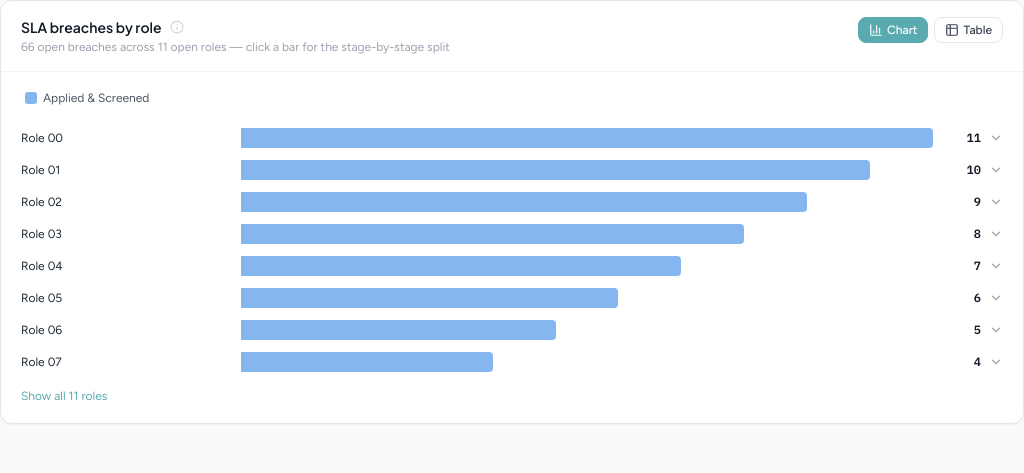
Test: SlaBreachesByRole › has a table view with every role (even beyond the top eight) and the totals
expect the link "Role 00" is shown: met, box [21,131,63,145]
Click the button "Table" at point(969, 30), box [934,17,1003,43]
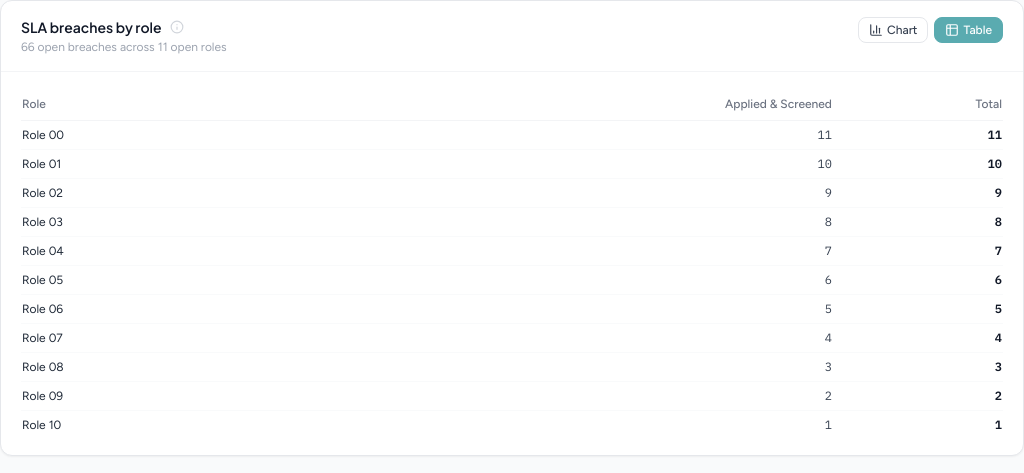
expect the column heading "Applied & Screened" is shown: met, box [274,88,840,120]
expect the number of rows is 12: met
Click the button "Chart" at point(893, 30), box [858,17,928,43]
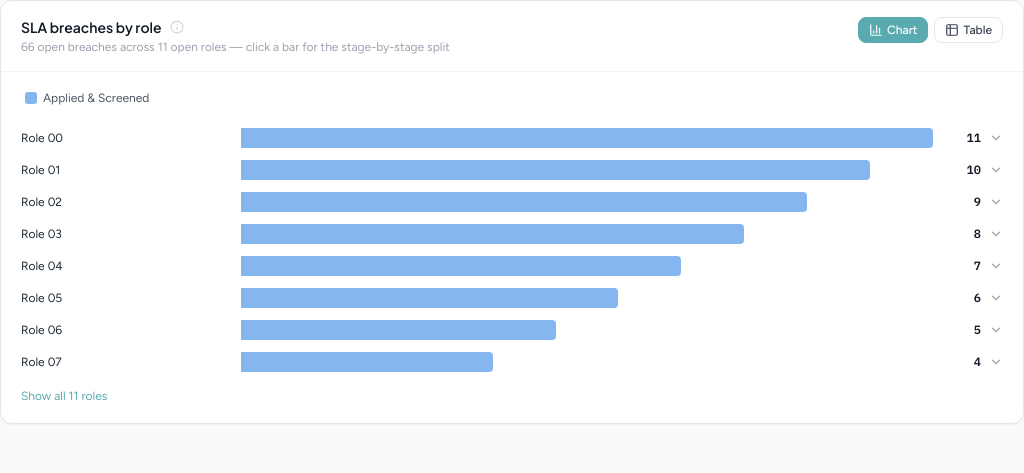
expect the table is gone: met
